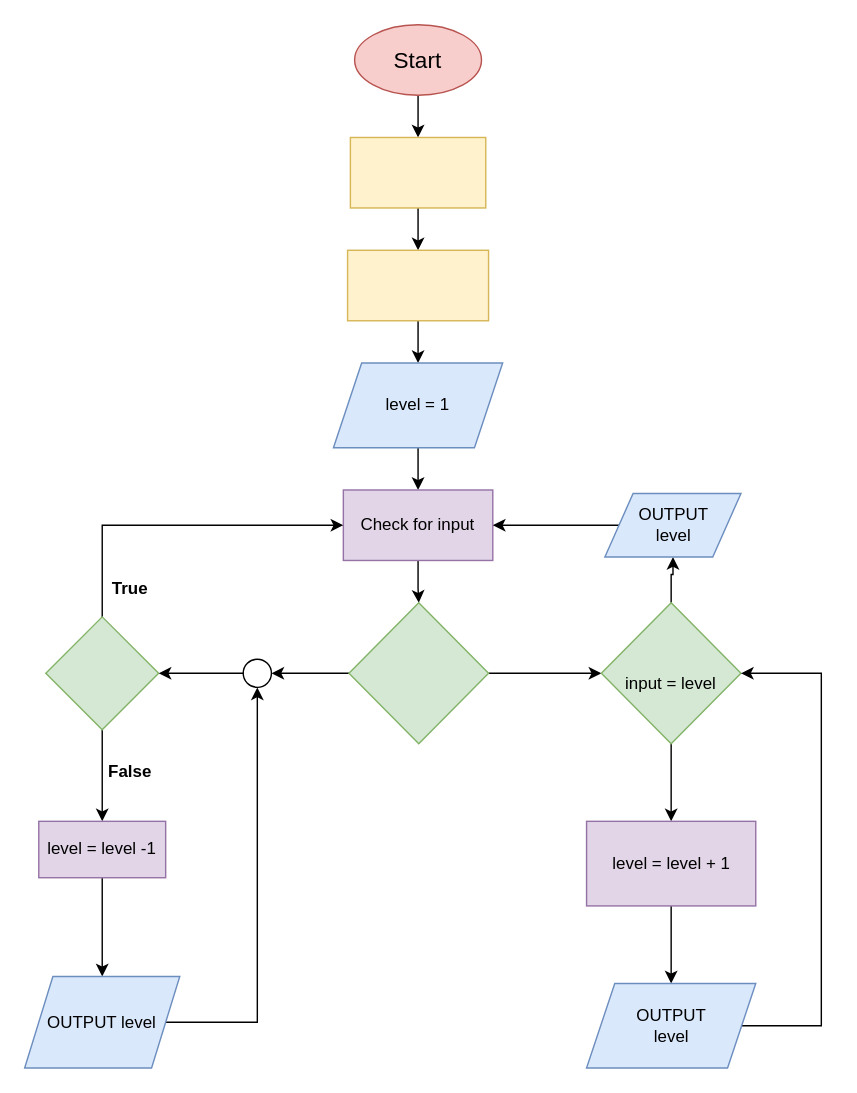
This 857x1093 diagram has some shape labels left out. Here are the shapes that lost their labels. From the top down, the box of each, then its label:
(349, 136, 486, 208): Initialize SP
(346, 249, 489, 321): Initialize Inputs/outputs
(44, 615, 159, 730): For input=level
(348, 601, 489, 744): If input => level
